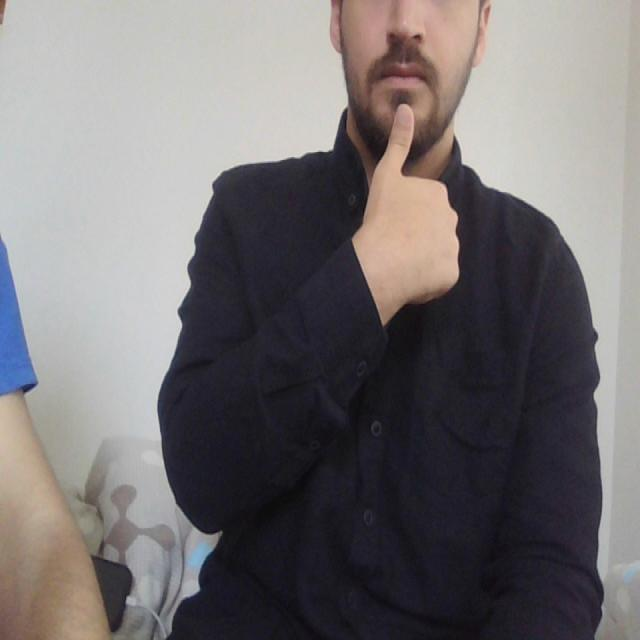Baba: (357, 46, 445, 168)
